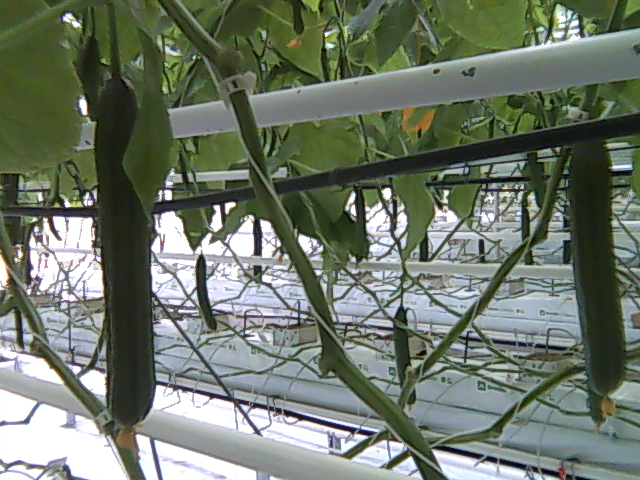concombre: (92, 75, 155, 454), (567, 119, 630, 418)
